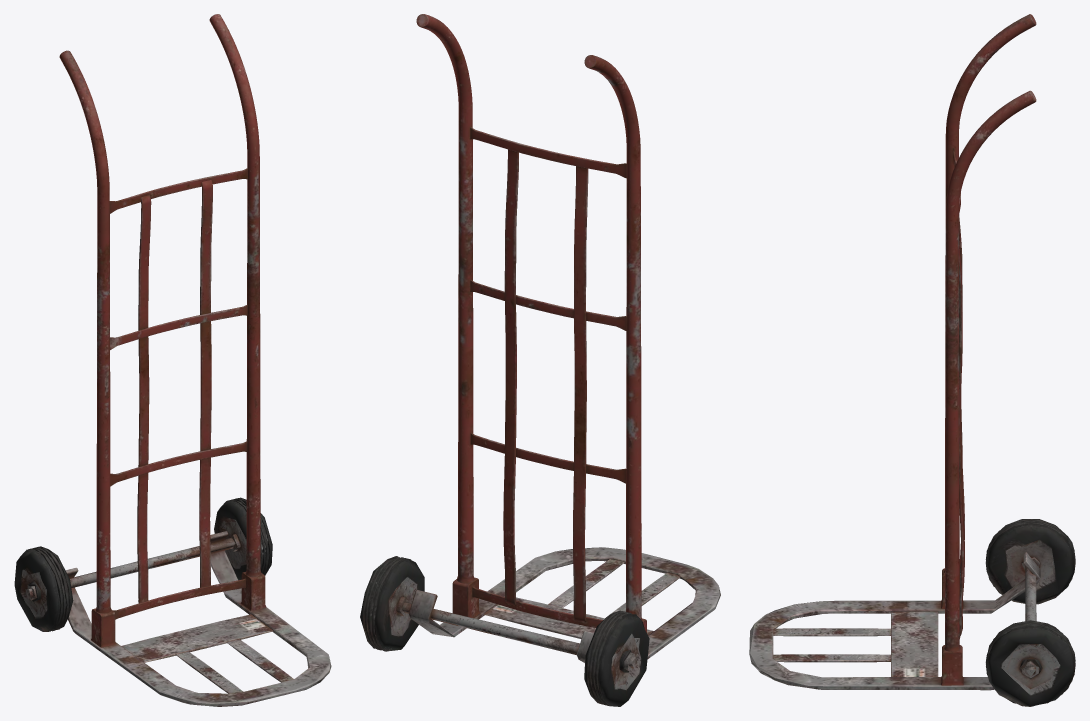
File: handtruck.glb
3 views of the same model, side by side, from view 1: azimuth 30°, elevation 25°; view 2: azimuth 150°, elevation 25°; view 3: azimuth 270°, elevation 25° (orthographic). The views are drawn at different scales.
Parts seen in each view (by area): view 1: hand_truck; view 2: hand_truck; view 3: hand_truck.
Part boxes in pixels (x1=…): hand_truck: x1=14, y1=14, x2=331, y2=706; hand_truck: x1=360, y1=14, x2=720, y2=706; hand_truck: x1=749, y1=14, x2=1075, y2=706.
Bounding box in the file's own units: 0.5932 × 1.4 × 0.6921.
1 material, 1 textured.
